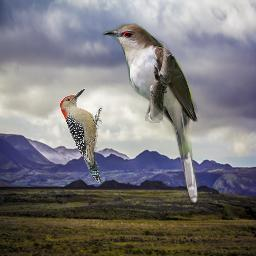Cuckoo: (101, 23, 199, 204)
Woodpecker: (60, 87, 102, 186)
